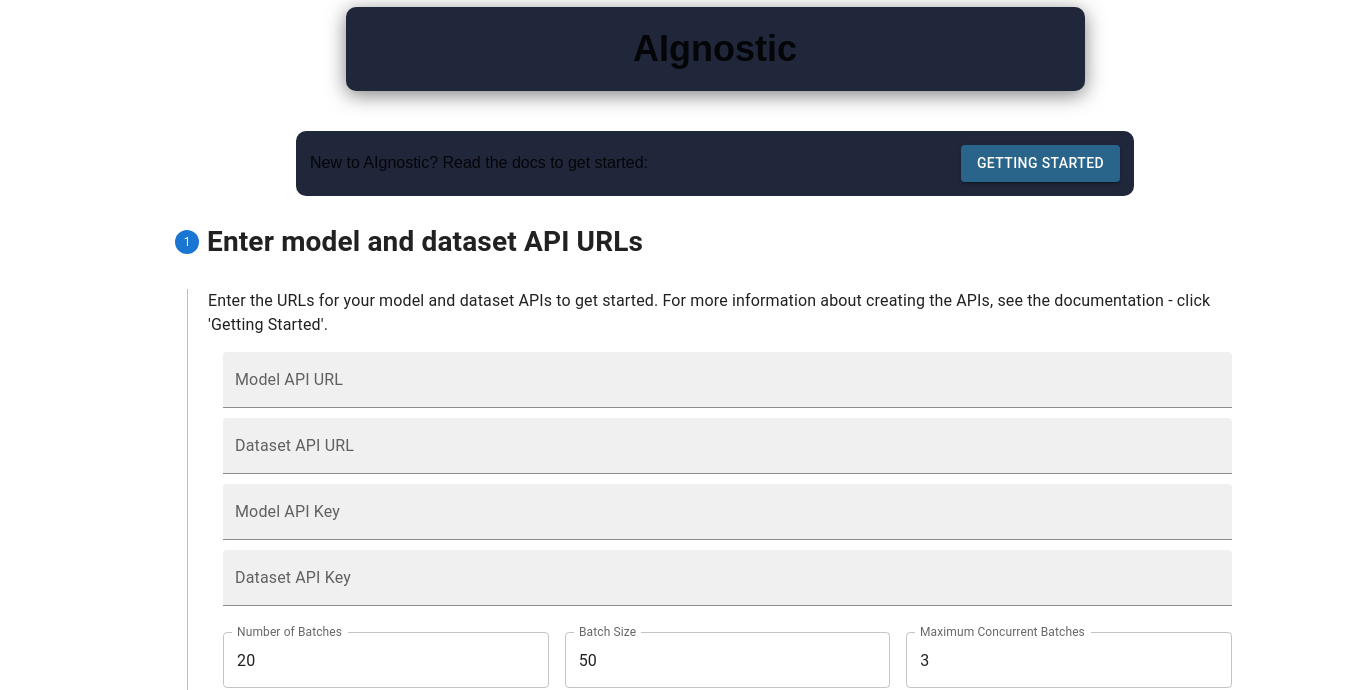
Stepper Navigation › should go to the next step when "Next" button is clicked
In the field labelled "Model API URL": x=728, y=380 [223, 352, 1232, 408], type "http://valid-model-url.com"
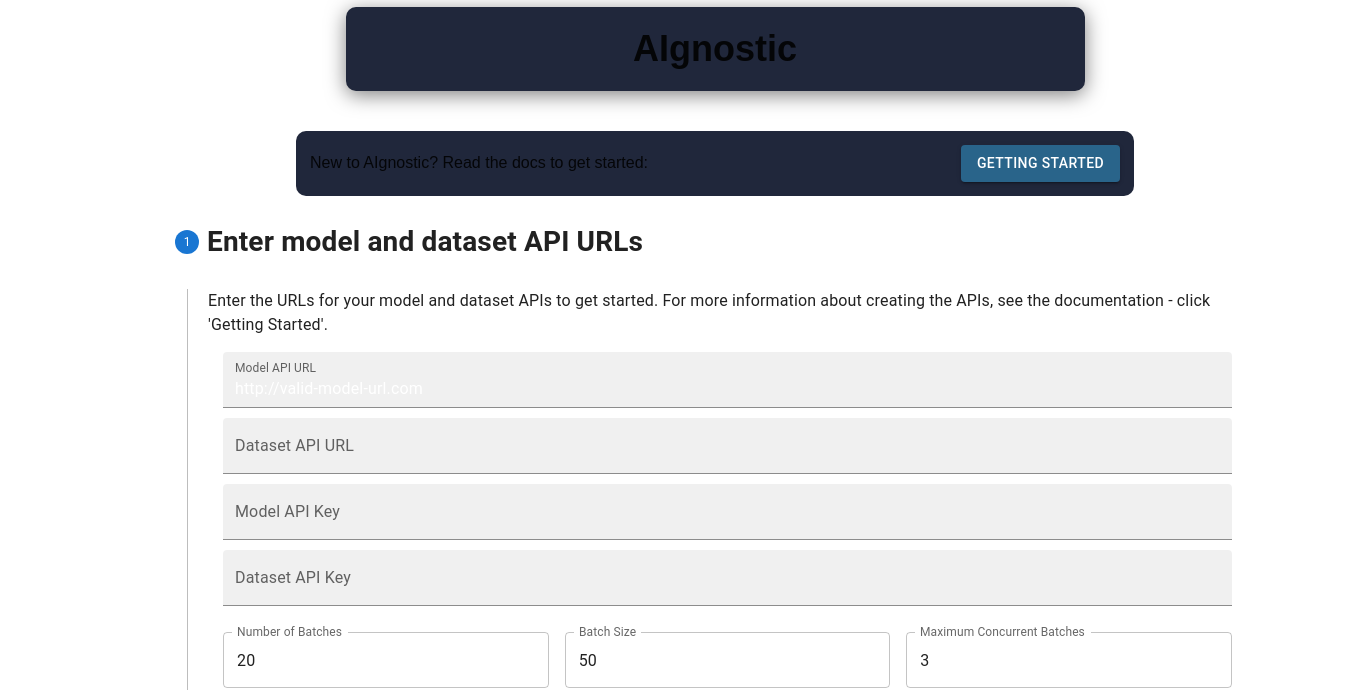
In the field labelled "Dataset API URL": x=728, y=446 [223, 418, 1232, 474], type "http://valid-dataset-url.com"
(page scrolled)
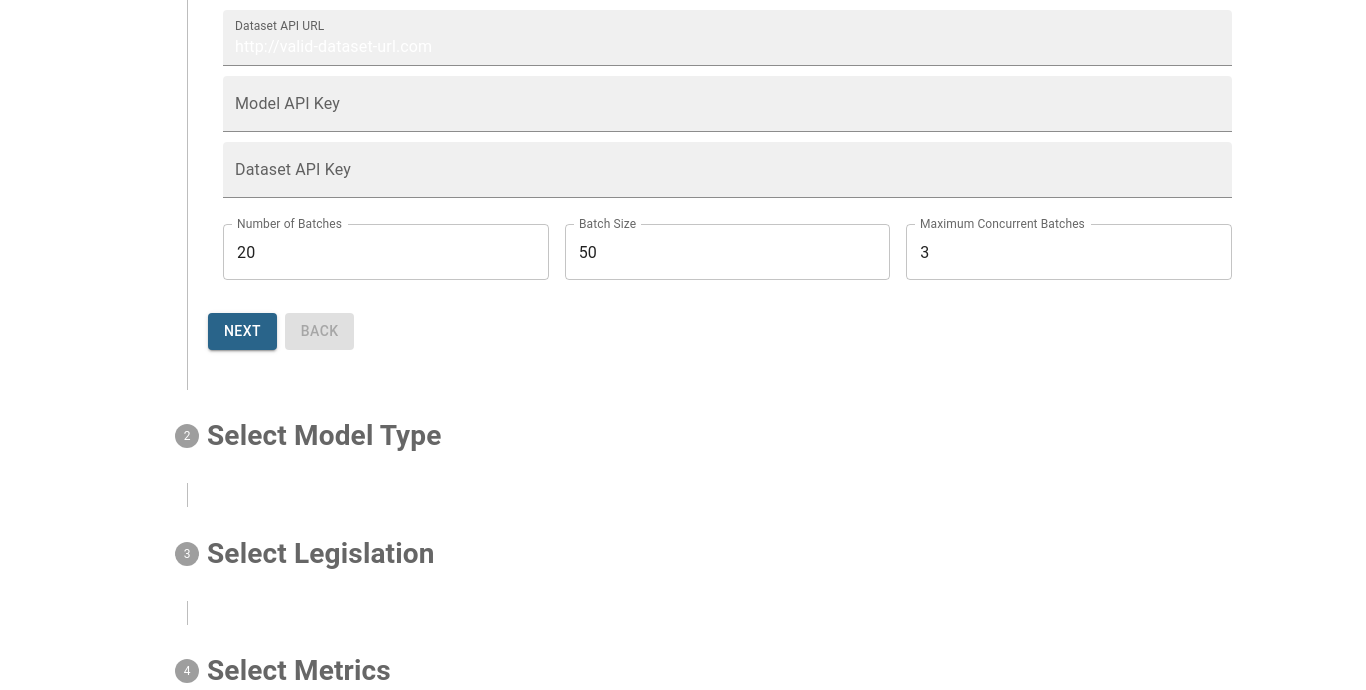
Click the button "Next": x=242, y=331 [208, 313, 277, 350]
(page scrolled)
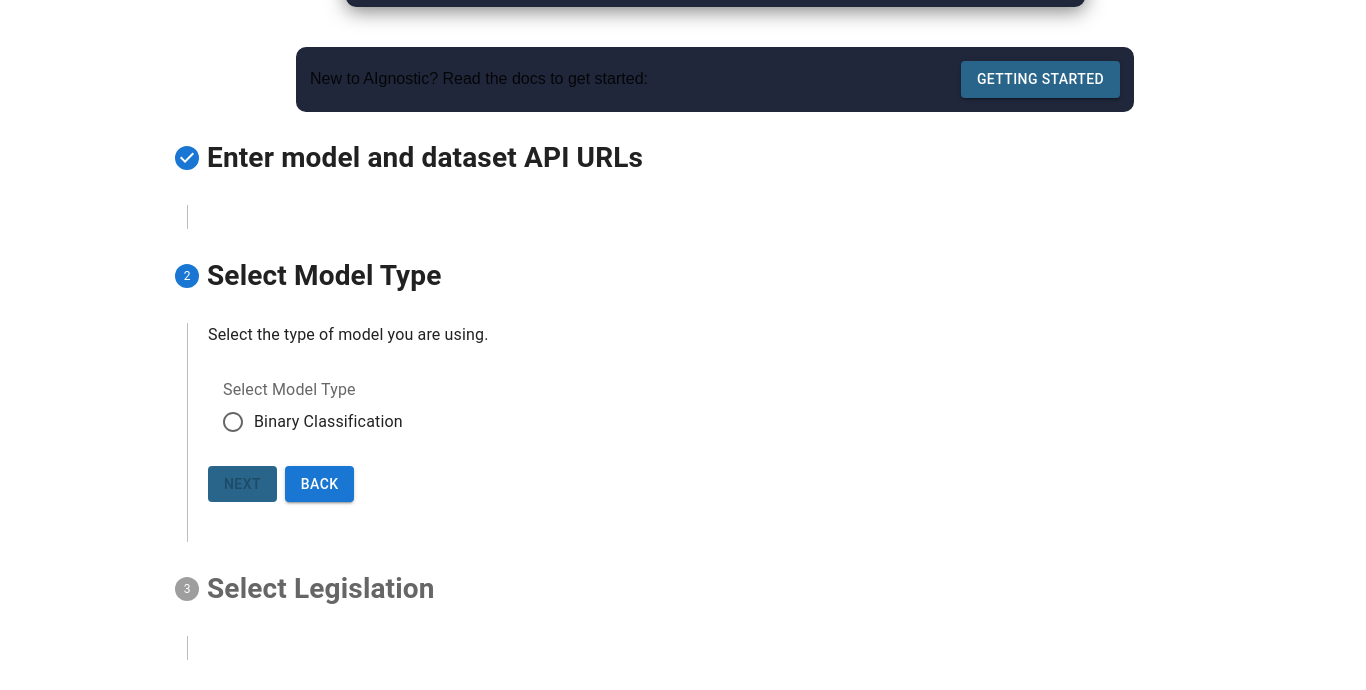
Check: the text "Select the type of model you are using." is shown, box [208, 325, 488, 344]
